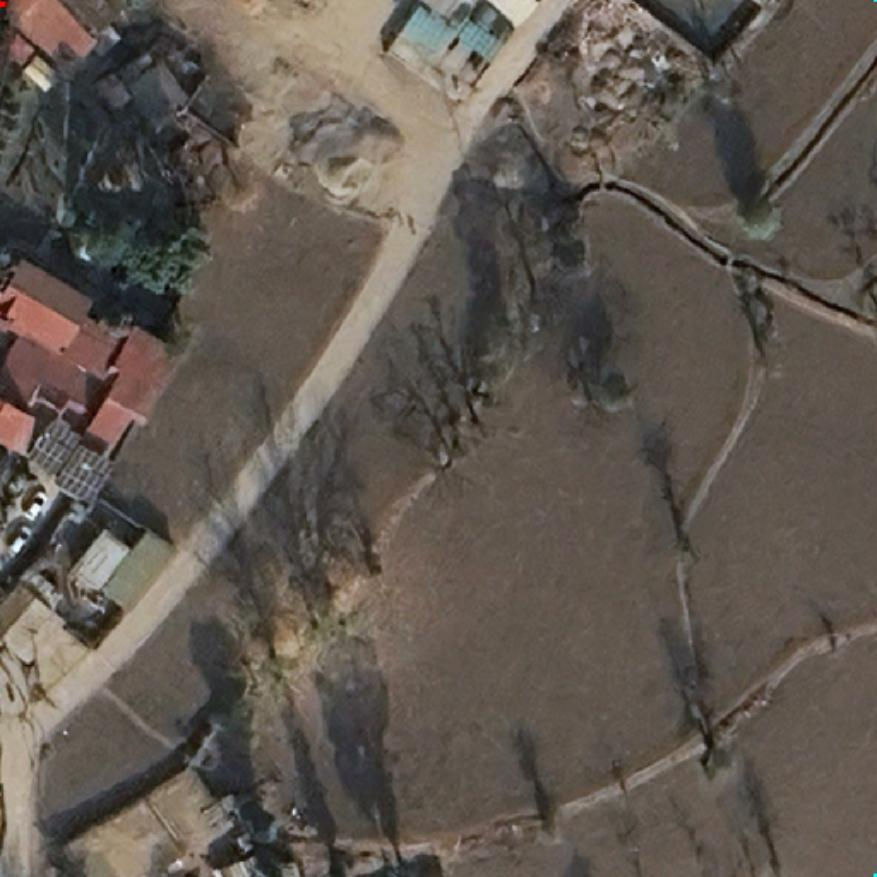Solarpanel: (24, 411, 117, 505)
